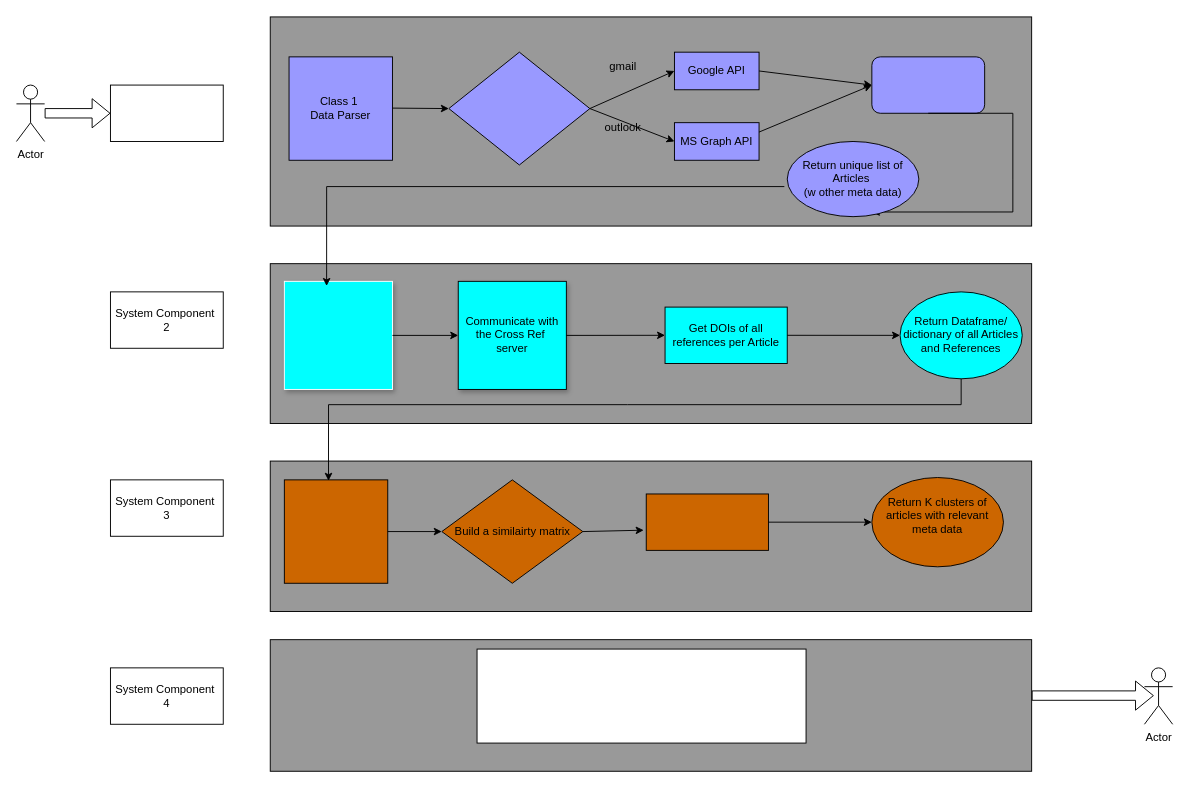
Some shapes in this 1189 by 788 pixel diagram are drawn without their labels. Each missing label, with the centre of its shape:
Cass 3 ML Program: (335,531)
Choose API based on domain address: (519,108)
Class 2 , REST API References extracter: (339,336)
Data Preprocessing Sub Class: (928,84)
Feed the matrix to the Clustering Model: (706,521)
GUI / mail/ system to communicate summarised information/stats to the user: (641,695)
System Component 1: (166,112)
